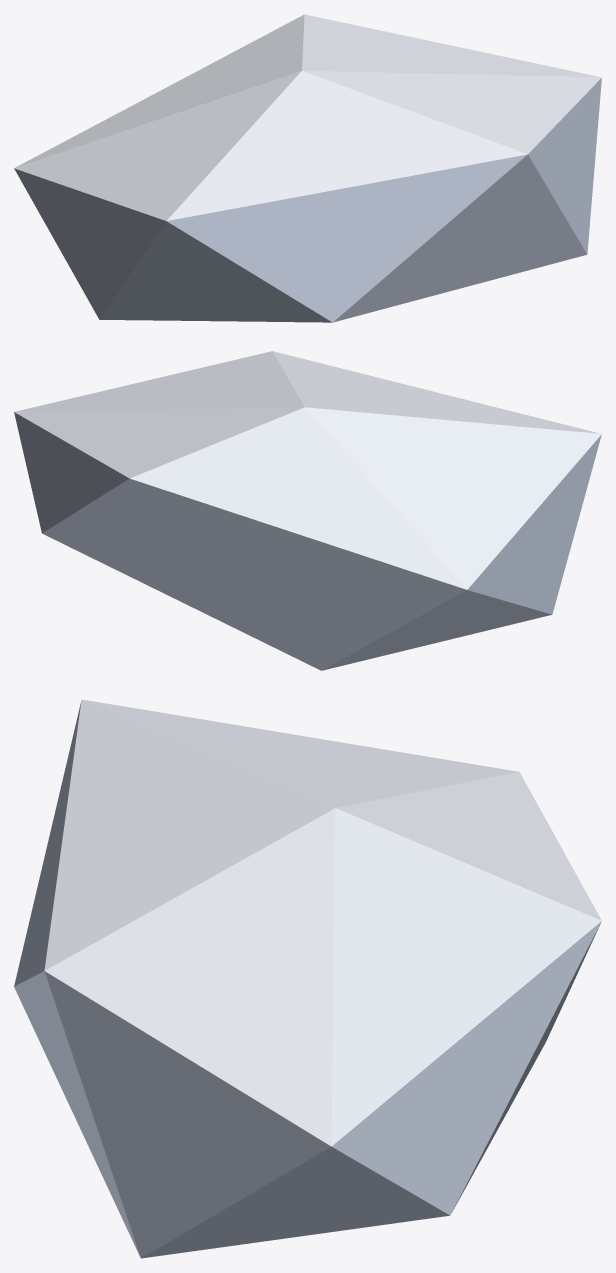
File: snow-mound-1.glb
3 views of the same model, one above another, from view 1: azimuth 30°, elevation 25°; view 2: azimuth 150°, elevation 25°; view 3: azimuth 270°, elevation 25° (orthographic). The views are drawn at different scales.
Visible parts, largest first — view 1: snow-mound-1; view 2: snow-mound-1; view 3: snow-mound-1.
Boxes of the visible parts, bbox=[...] form: snow-mound-1: bbox=[14, 14, 601, 322]; snow-mound-1: bbox=[14, 351, 601, 670]; snow-mound-1: bbox=[14, 699, 601, 1258].
Bounding box in the file's own units: 2.23 × 0.8887 × 1.43.
